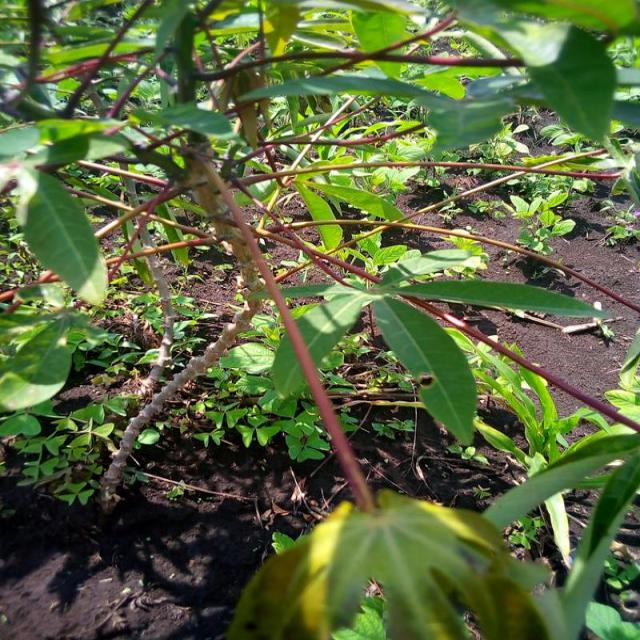cassava leaf: (371, 291, 478, 446), (16, 164, 108, 307), (270, 289, 368, 402)
